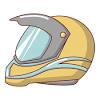helmet: (2, 9, 98, 94)
